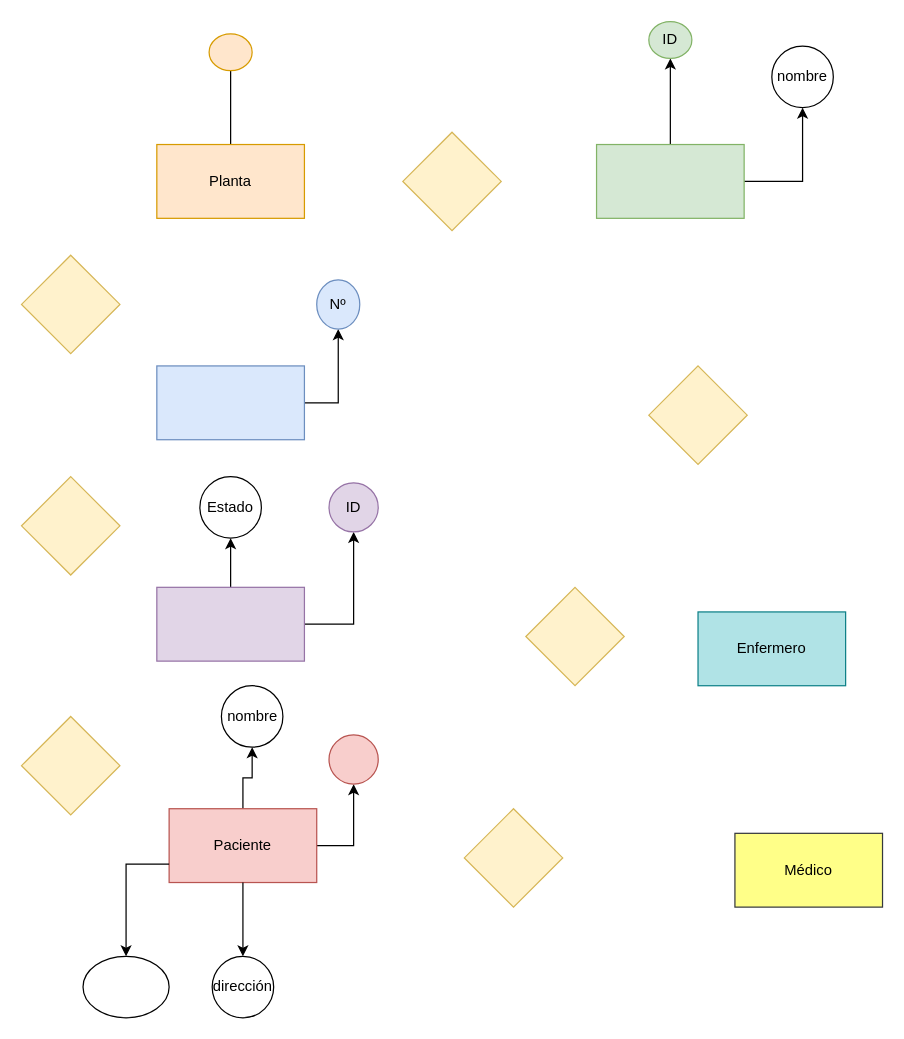
This 904x1039 diagram has some shape labels left out. Each missing label, with the box of its shape:
Cama: (156, 586, 304, 661)
Cód: (208, 33, 252, 71)
diagnóstico: (82, 955, 169, 1018)
DNI: (328, 734, 378, 784)
Especialidad: (595, 143, 744, 218)
Habitación: (156, 365, 304, 440)
